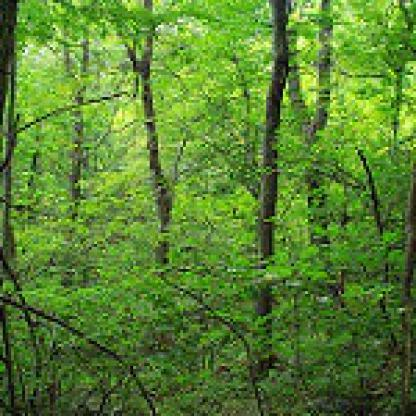trunk: (241, 0, 291, 380), (128, 2, 180, 274), (288, 0, 336, 247), (64, 38, 94, 250), (400, 175, 414, 410), (0, 0, 23, 120)
